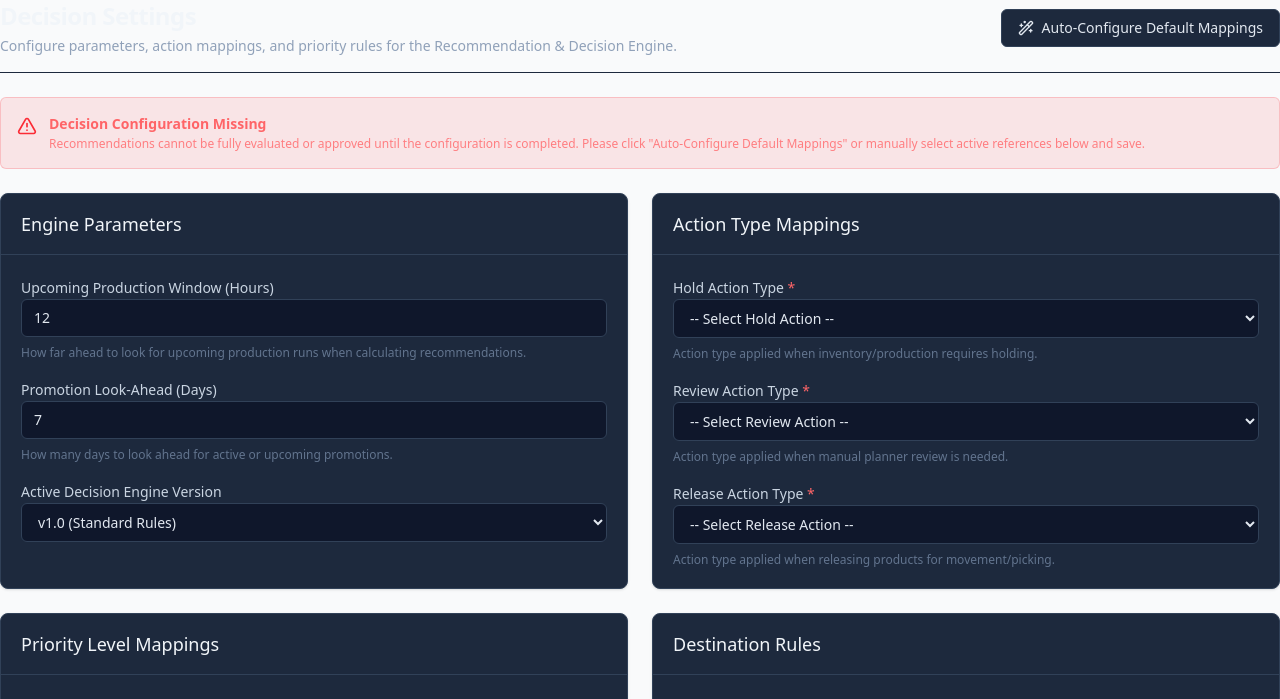
Test case: Decision Settings Page Behavior & Auto-Configuration Tests › Tenant Admin can explicitly auto-configure with confirmation and audit logged
Expected: the text "Decision Configuration Missing" is shown, [49,114,266,133]
# Click Auto-Configure button
What coordinates should you click on to do the following:
click the button "Auto-Configure Default Mappings"
I would click on:
 (1140, 28)
Its box is [1001,9,1279,47].
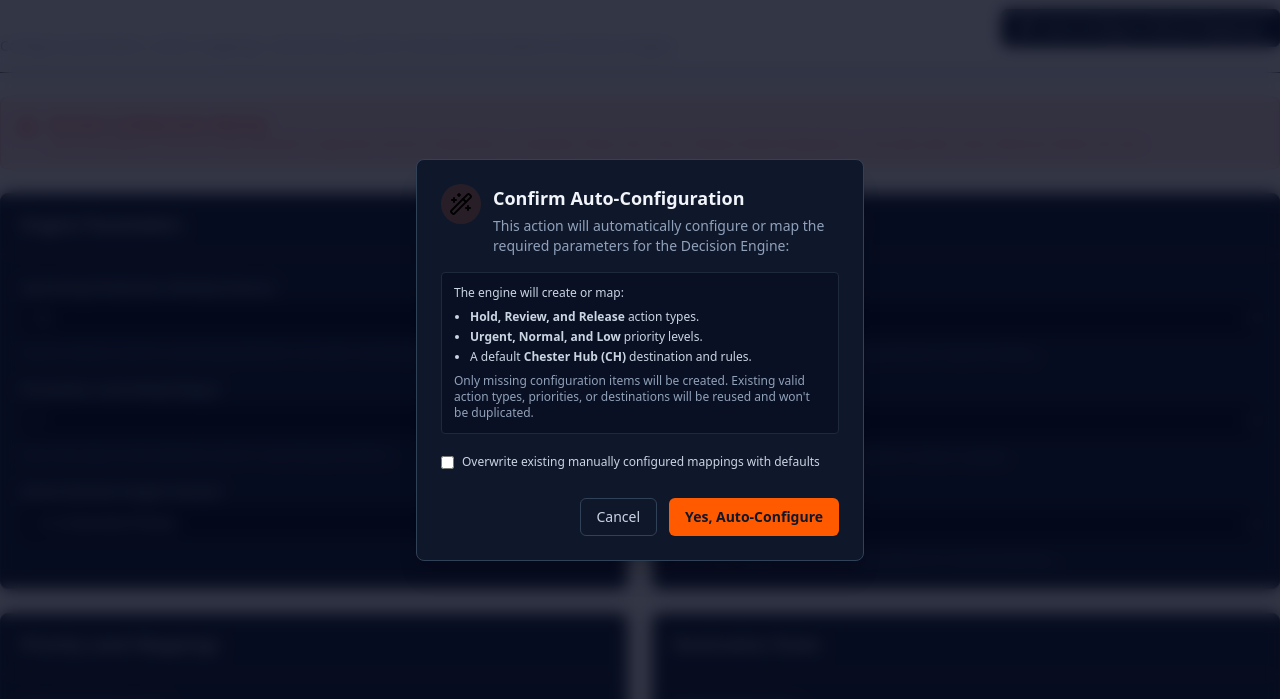
Result: the heading "Confirm Auto-Configuration" is shown at [493,186,744,210]
Result: the text "Hold, Review, and Release" is shown at [470,308,625,325]
What coordinates should you click on to do the following:
click the button "Yes, Auto-Configure"
I would click on:
 (754, 517)
Its box is [669,498,839,536].
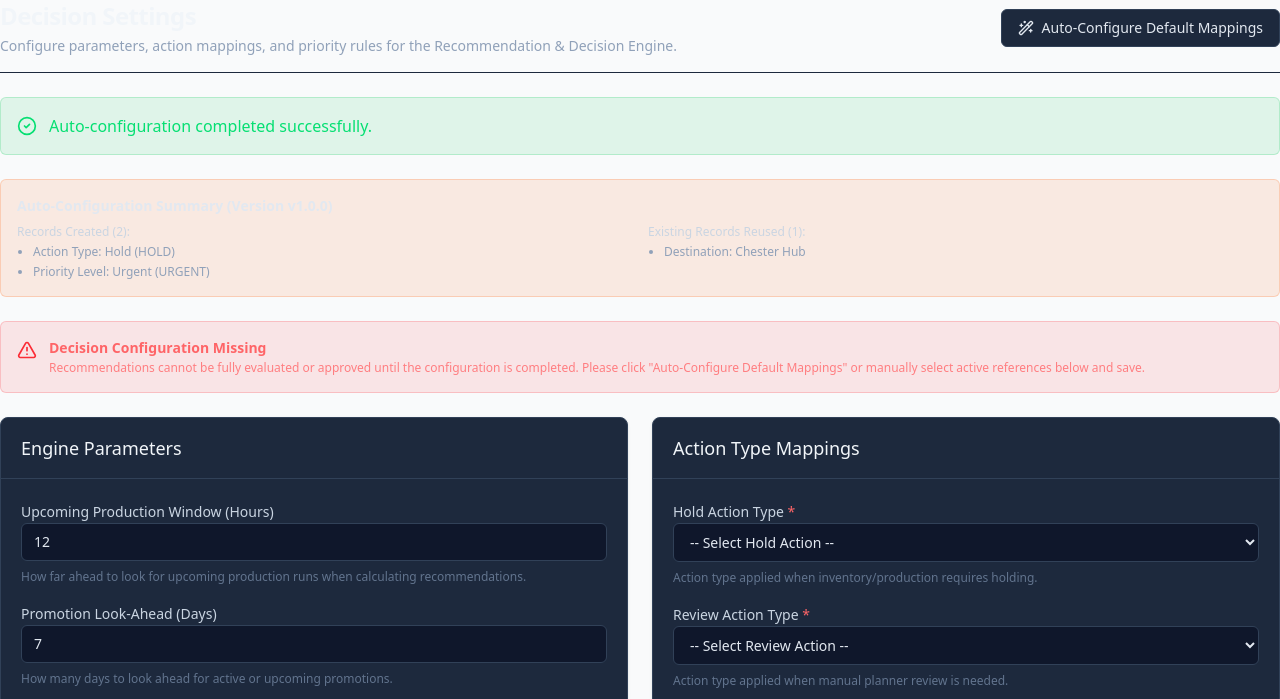
Result: the text "Auto-configuration completed successfully." is shown at [49,114,372,138]
